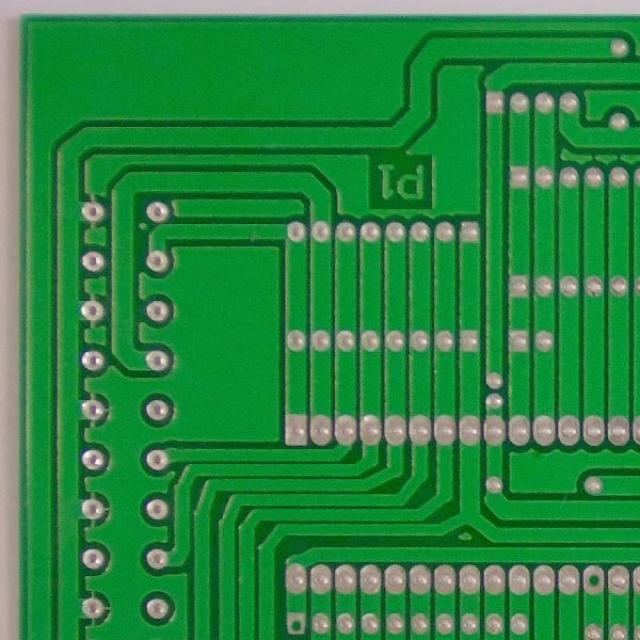Missing_Hole: (583, 565, 605, 595), (288, 613, 306, 634)
